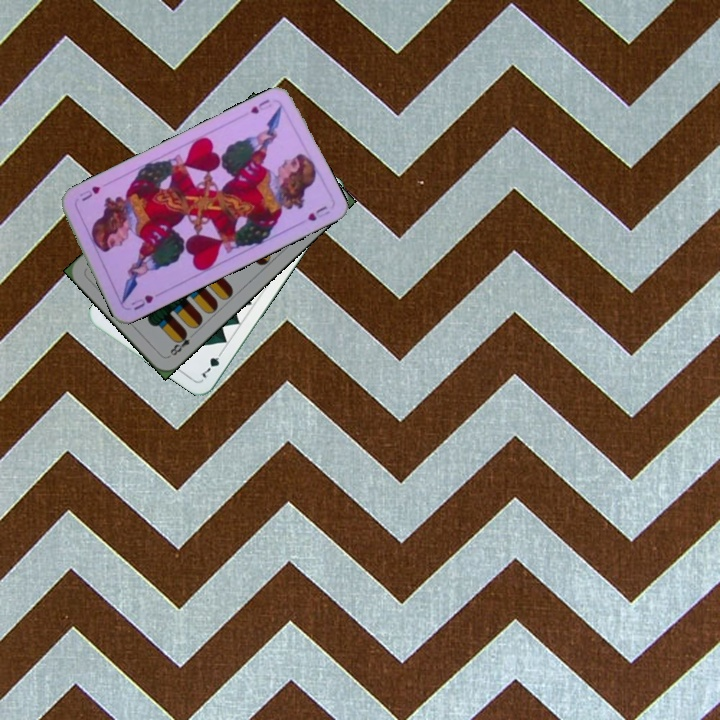E8: (164, 327, 198, 359)
G7: (196, 346, 226, 381)
HU: (127, 290, 156, 313), (246, 95, 275, 116)
